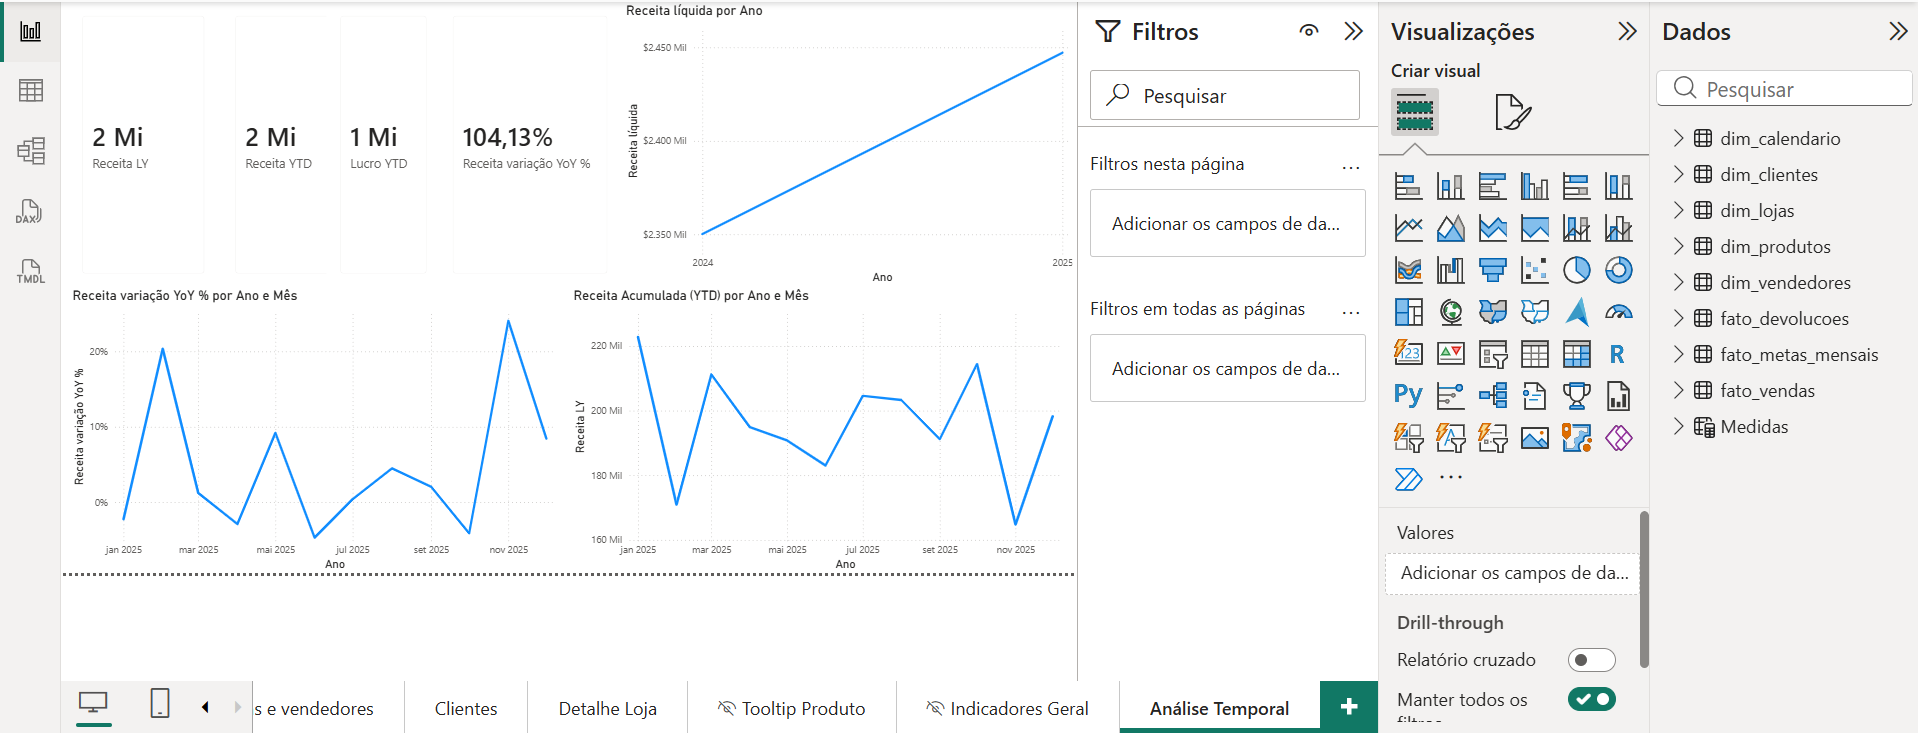

The dashboard page shown, as its layout file describes it:
{"tool":"powerbi","page":{"name":"Análise Temporal","canvas":[1280,720],"ordinal":7},"visuals":[{"type":"cardVisual","fields":{"Data":["Medidas.Receita LY"]},"box":[9.1,0,188.6,359],"z":0},{"type":"cardVisual","fields":{"Data":["Medidas.Receita YTD"]},"box":[202.2,0,154.5,359],"z":1000},{"type":"cardVisual","fields":{"Data":["Medidas.Lucro YTD"]},"box":[334,0,143.1,359],"z":2000},{"type":"cardVisual","fields":{"Data":["Medidas.Receita variação YoY %"]},"box":[477.2,0,229.5,359],"z":3000},{"type":"lineChart","title":"Receita Acumulada (YTD) por Ano e Mês","fields":{"Category":["dim_calendario.AnoMes.Variation.Hierarquia de datas.Ano","dim_calendario.AnoMes.Variation.Hierarquia de datas.Mês"],"Y":["Medidas.Receita LY"]},"box":[640.8,359,638.5,361.3],"z":4000},{"type":"lineChart","fields":{"Category":["dim_calendario.AnoMes.Variation.Hierarquia de datas.Ano","dim_calendario.AnoMes.Variation.Hierarquia de datas.Mês"],"Y":["Medidas.Receita variação YoY %"]},"box":[9.1,359,631.7,361.3],"z":5000},{"type":"lineChart","fields":{"Category":["dim_calendario.AnoMes.Variation.Hierarquia de datas.Ano","dim_calendario.AnoMes.Variation.Hierarquia de datas.Mês"],"Y":["Medidas.Receita líquida"]},"box":[706.7,0,572.6,359],"z":6000}]}

Visuals, with their boxes on the page's 1280x720 design canvas (x1, y1, x2, y2). These are canvas units, not pixel positions in the 1918x733 screenshot, which may show the page scaled, cropped or inside an application window:
cardVisual - Medidas.Receita LY: box(9, 0, 198, 359)
cardVisual - Medidas.Receita YTD: box(202, 0, 357, 359)
cardVisual - Medidas.Lucro YTD: box(334, 0, 477, 359)
cardVisual - Medidas.Receita variação YoY %: box(477, 0, 707, 359)
"Receita Acumulada (YTD) por Ano e Mês" lineChart: box(641, 359, 1279, 720)
lineChart - dim_calendario.AnoMes.Variation.Hierarquia de datas.Ano x dim_calendario.AnoMes.Variation.Hierarquia de datas.Mês: box(9, 359, 641, 720)
lineChart - dim_calendario.AnoMes.Variation.Hierarquia de datas.Ano x dim_calendario.AnoMes.Variation.Hierarquia de datas.Mês: box(707, 0, 1279, 359)
